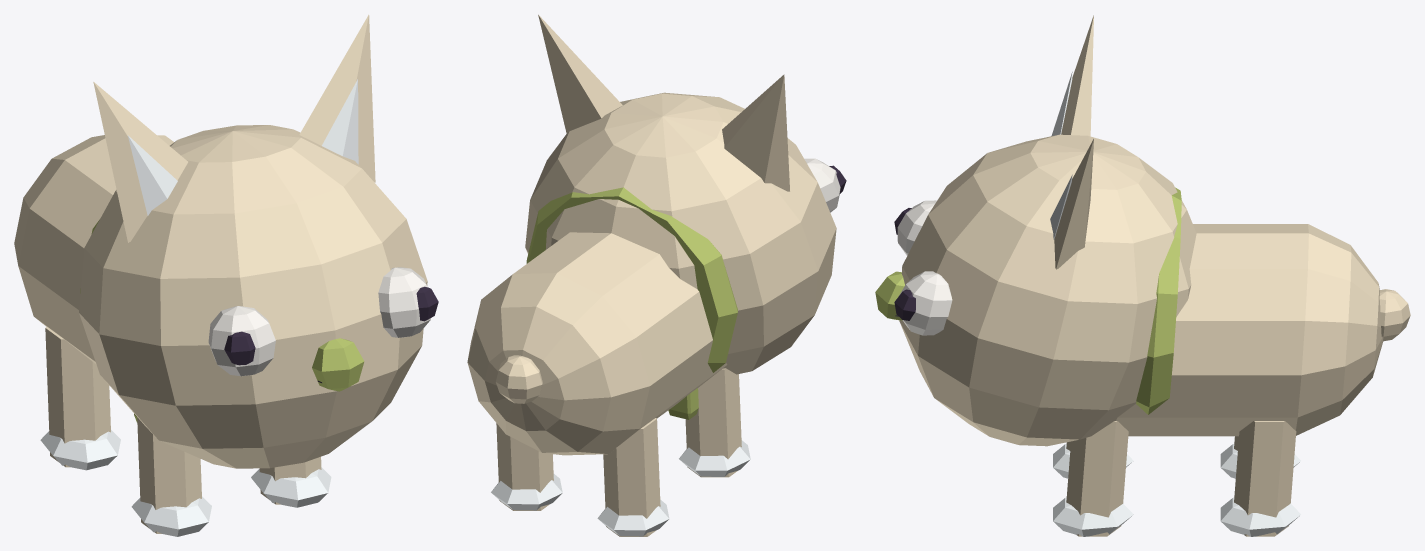
File: bean-medieval-1.glb
3 renders of one model, left to right at view 1: azimuth 30°, elevation 25°; view 2: azimuth 150°, elevation 25°; view 3: azimuth 270°, elevation 25°, orthographic. The views are drawn at different scales.
Visible parts, largest first — view 1: bean-medieval-1; view 2: bean-medieval-1; view 3: bean-medieval-1.
Boxes of the visible parts, <box> form: bean-medieval-1: <box>14,14,438,536</box>; bean-medieval-1: <box>467,14,846,536</box>; bean-medieval-1: <box>875,15,1410,536</box>.
Size of the model in its own units: 0.5083 by 0.7256 by 0.8316.
